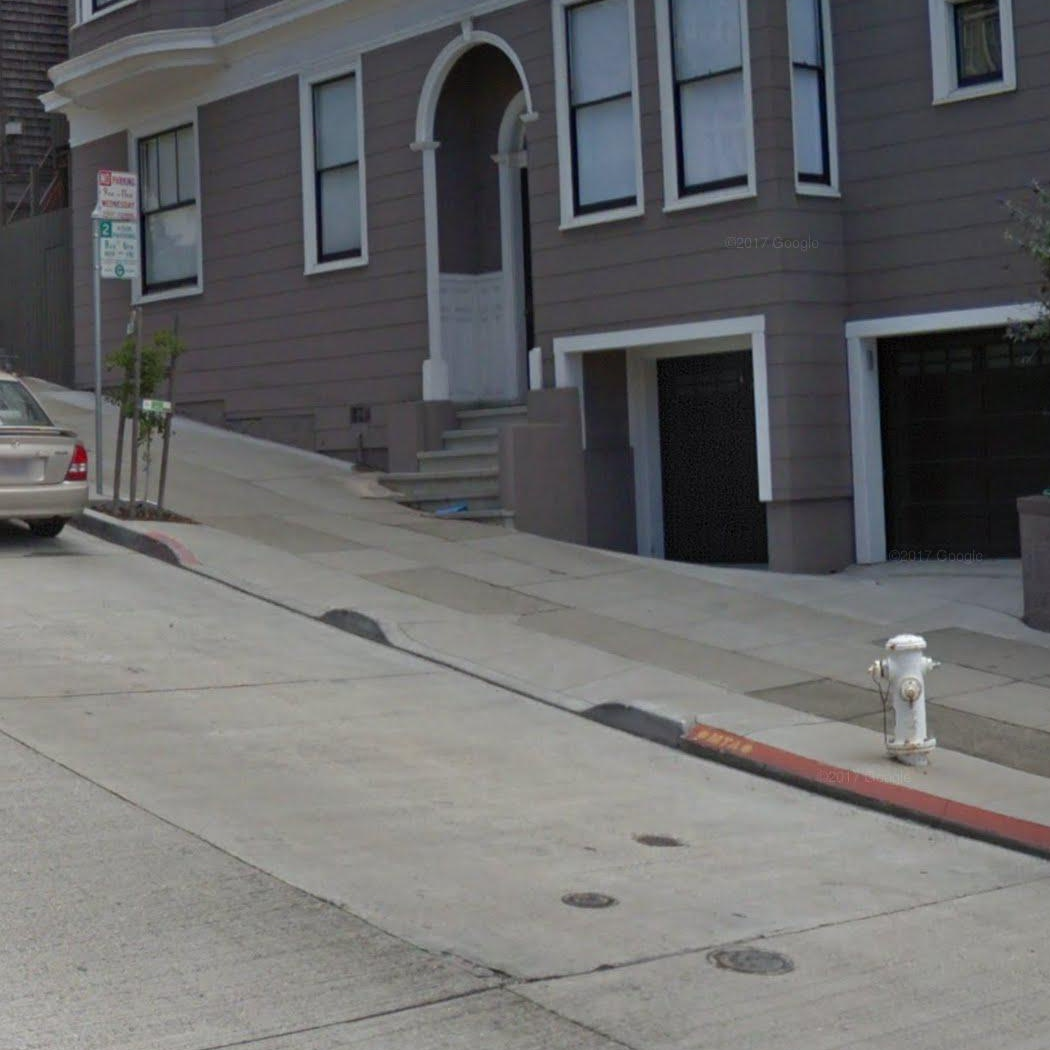2 Hour Parking: (98, 221, 142, 280)
No Parking: (96, 169, 139, 220)
